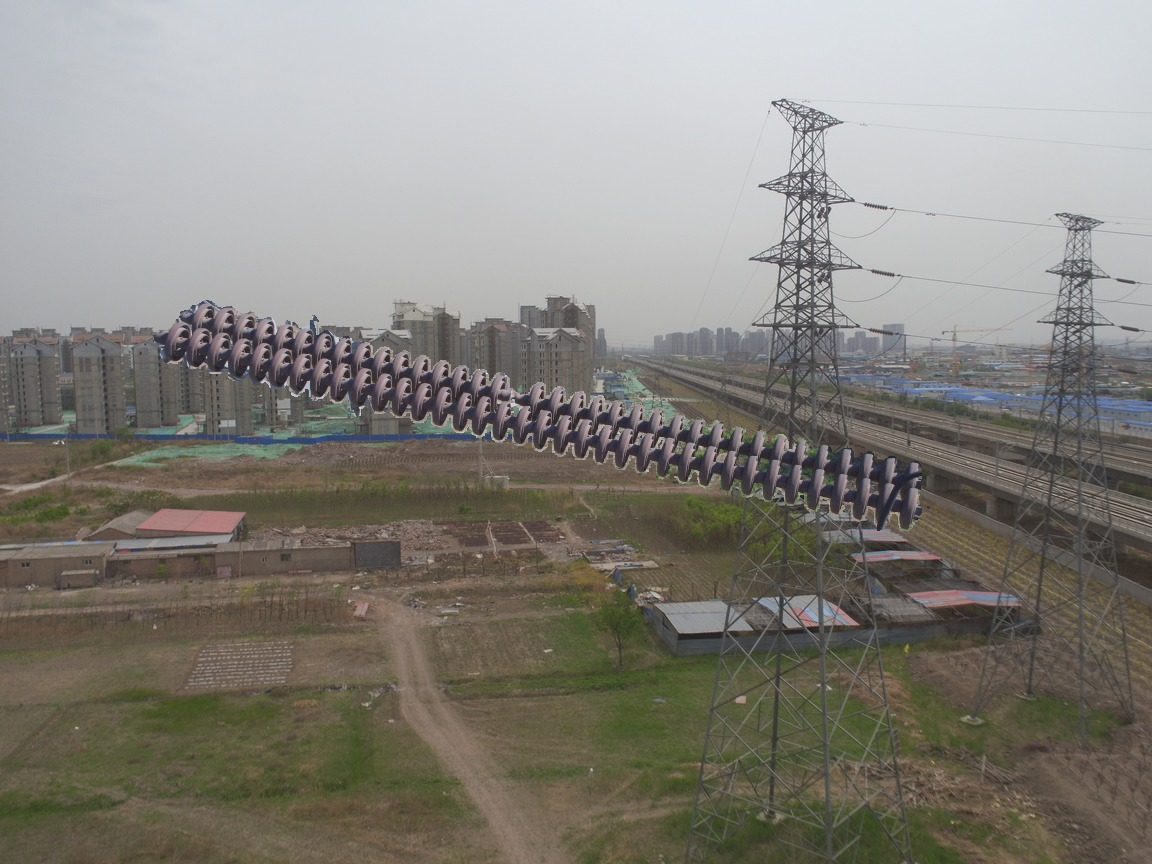defect: (487, 373, 549, 414)
